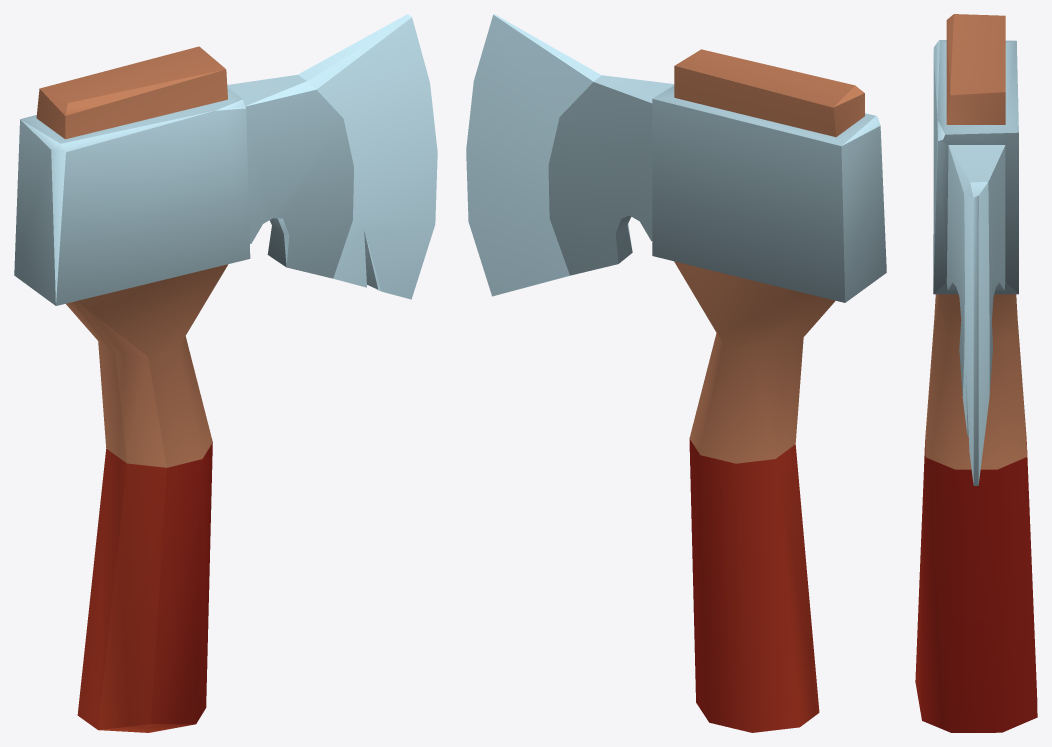
The model's file is tool_005.glb.
3 views of the same model, side by side, from view 1: azimuth 30°, elevation 25°; view 2: azimuth 150°, elevation 25°; view 3: azimuth 270°, elevation 25° (orthographic). The views are drawn at different scales.
Visible parts, largest first — view 1: tool.005; view 2: tool.005; view 3: tool.005.
Part boxes in pixels (bbox=[...]): tool.005: bbox=[14, 14, 437, 732]; tool.005: bbox=[466, 14, 886, 732]; tool.005: bbox=[915, 14, 1037, 732].
Bounding box in the file's own units: 0.2956 × 0.4485 × 0.0763.
Materials: 1 (1 with a texture image).
